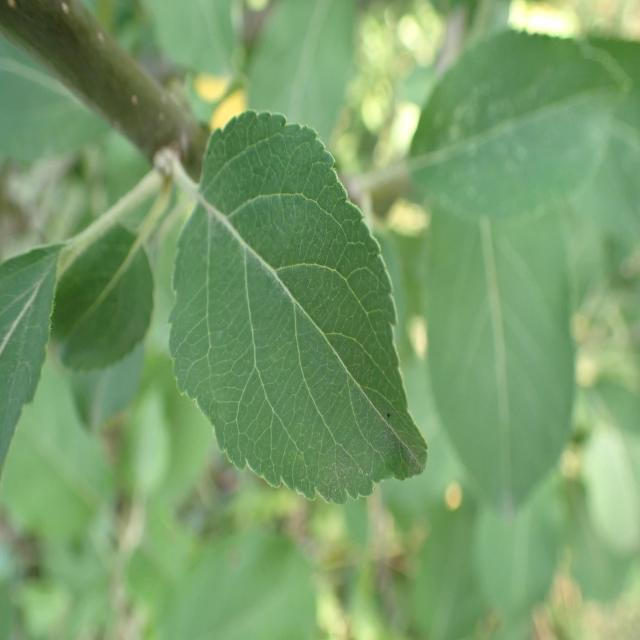healthy: (168, 109, 430, 505), (49, 222, 155, 372), (0, 242, 66, 482)
